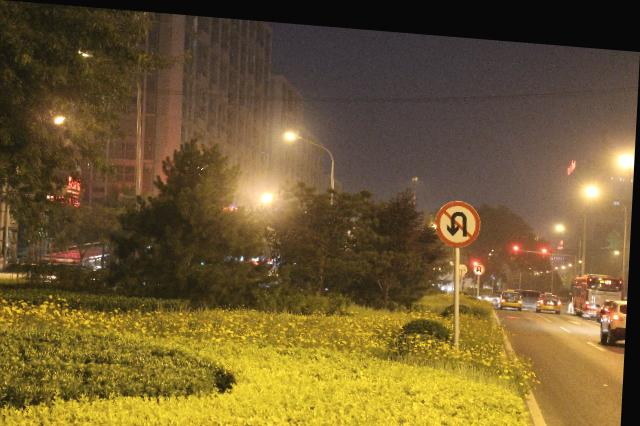not_u_turn_left: (430, 189, 489, 247)
